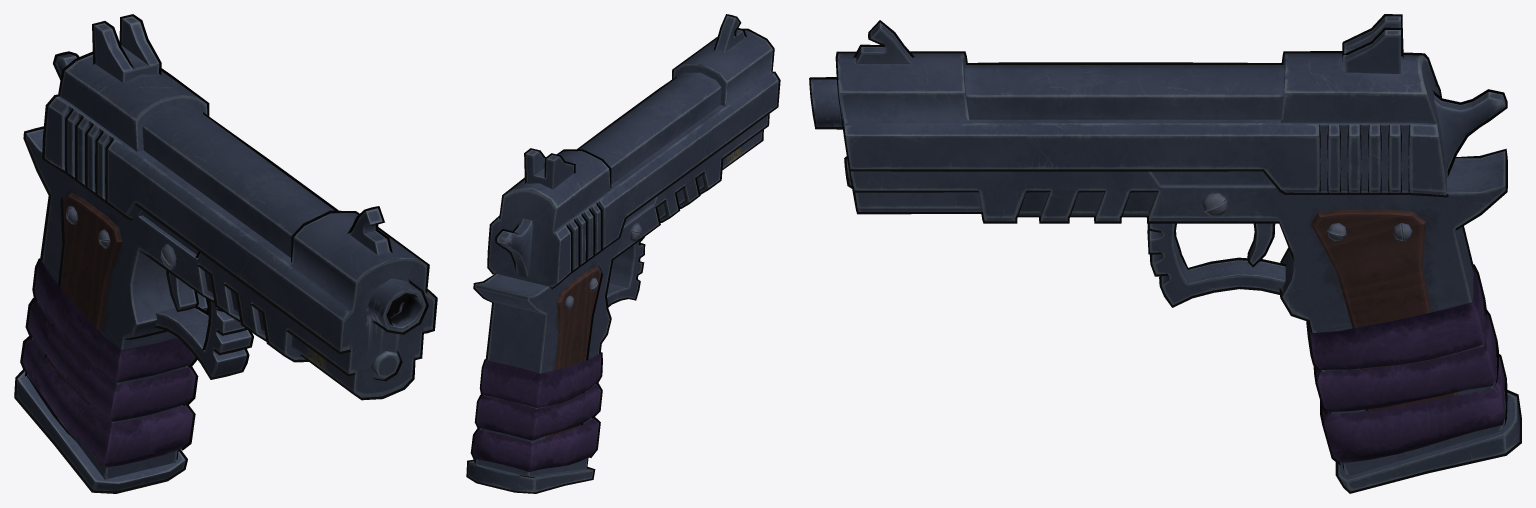
The model's file is stylized_pistol.glb.
3 renders of one model, left to right at view 1: azimuth 30°, elevation 25°; view 2: azimuth 150°, elevation 25°; view 3: azimuth 270°, elevation 25°, orthographic. The views are drawn at different scales.
Parts seen in each view (by area): view 1: Object001_Material #36_0, Object001_Material #37_0; view 2: Object001_Material #36_0, Object001_Material #37_0; view 3: Object001_Material #36_0, Object001_Material #37_0.
Boxes of the visible parts, x1,y1,x2,y2 form: Object001_Material #36_0: (16,16,435,491); Object001_Material #37_0: (14,14,437,493); Object001_Material #36_0: (468,15,778,492); Object001_Material #37_0: (466,14,780,493); Object001_Material #36_0: (811,16,1519,491); Object001_Material #37_0: (809,14,1521,493).
Bounding box in the file's own units: 0.0402 × 0.1732 × 0.2475.
Materials: 2 (1 with a texture image).
